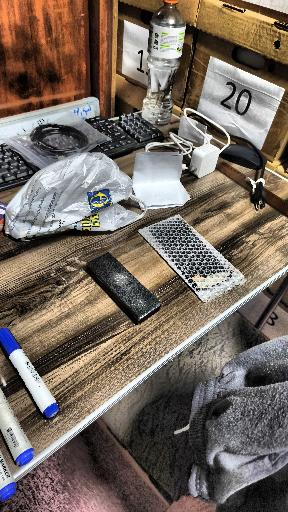borrador: (87, 252, 161, 325)
marcador azul: (0, 328, 59, 419)
